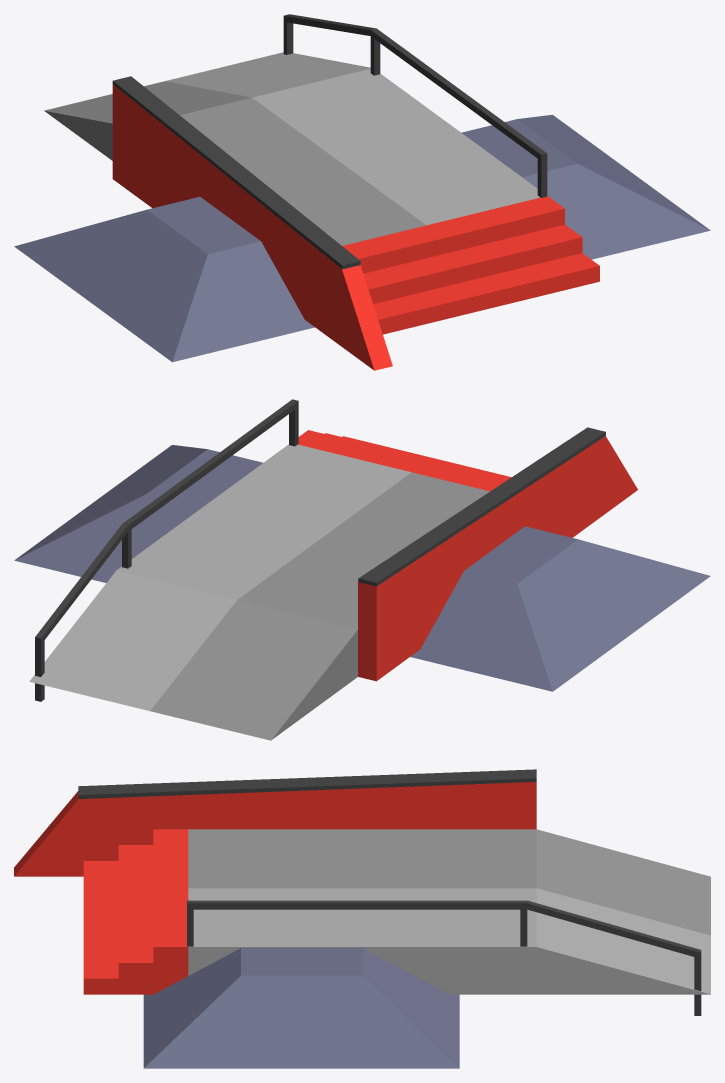
File: stairs.fbx
The picture shows the model from 3 angles, top to bottom: view 1: azimuth 30°, elevation 25°; view 2: azimuth 150°, elevation 25°; view 3: azimuth 270°, elevation 25°; orthographic projection.
Visible parts, largest first — view 1: Plane, Cube.004, Plane.002, Cube.011, Cube.010, Cube.003, Cube.007, Cube.019, Cube.012, Cube.006, Cube.008, Cube.005 (+6 smaller); view 2: Plane, Cube.006, Cube.004, Cube.012, Plane.002, Cube.010, Cube.011, Cube.007, Cube.003, Cube.019, Cube.013, Cube.009 (+3 smaller); view 3: Plane.002, Cube.004, Cube.011, Cube.012, Cube.007, Cube.003, Cube.006, Cube.010, Cube.019, Cube.009, Cube.013, Cube.008 (+6 smaller).
Boxes of the visible parts, x1,y1,x2,y2 form: Plane: (14,197,314,362); Cube.004: (112,84,392,370); Plane.002: (461,114,710,259); Cube.011: (252,68,459,161); Cube.010: (339,132,539,225); Cube.003: (261,161,426,245); Cube.007: (180,97,338,180); Cube.019: (112,76,360,269); Cube.012: (165,52,370,97); Cube.006: (44,81,251,160); Cube.008: (444,224,582,282); Cube.005: (462,253,599,310); Plane: (410,526,710,691); Cube.006: (150,600,357,740); Cube.004: (358,436,637,681); Cube.012: (29,570,236,710); Plane.002: (14,445,262,582); Cube.010: (204,444,411,535); Cube.011: (117,506,323,599); Cube.007: (237,536,395,629); Cube.003: (325,472,489,553); Cube.019: (358,427,605,586); Cube.013: (126,399,298,531); Cube.009: (298,430,428,472); Plane.002: (143,948,459,1068); Cube.004: (14,782,536,876); Cube.011: (362,888,536,994); Cube.012: (536,888,710,994); Cube.007: (362,829,536,888); Cube.003: (188,829,362,888); Cube.006: (536,829,710,935); Cube.010: (188,888,362,975); Cube.019: (78,769,536,798); Cube.009: (153,888,188,994); Cube.013: (187,900,527,909); Cube.008: (118,904,153,994).
Bounding box in the file's own units: 1783 × 381 × 2000.
